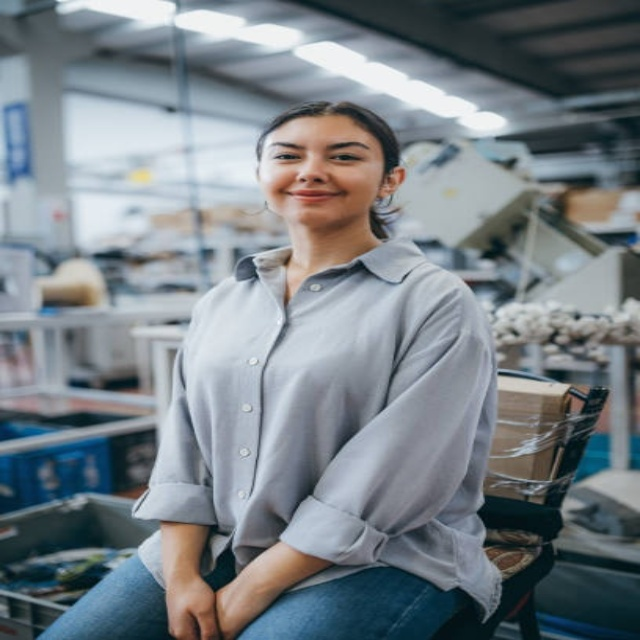Sin_gafas: (262, 134, 373, 168)
Sin_guantes: (152, 572, 270, 635)
Sin_mascara: (267, 181, 355, 219)
